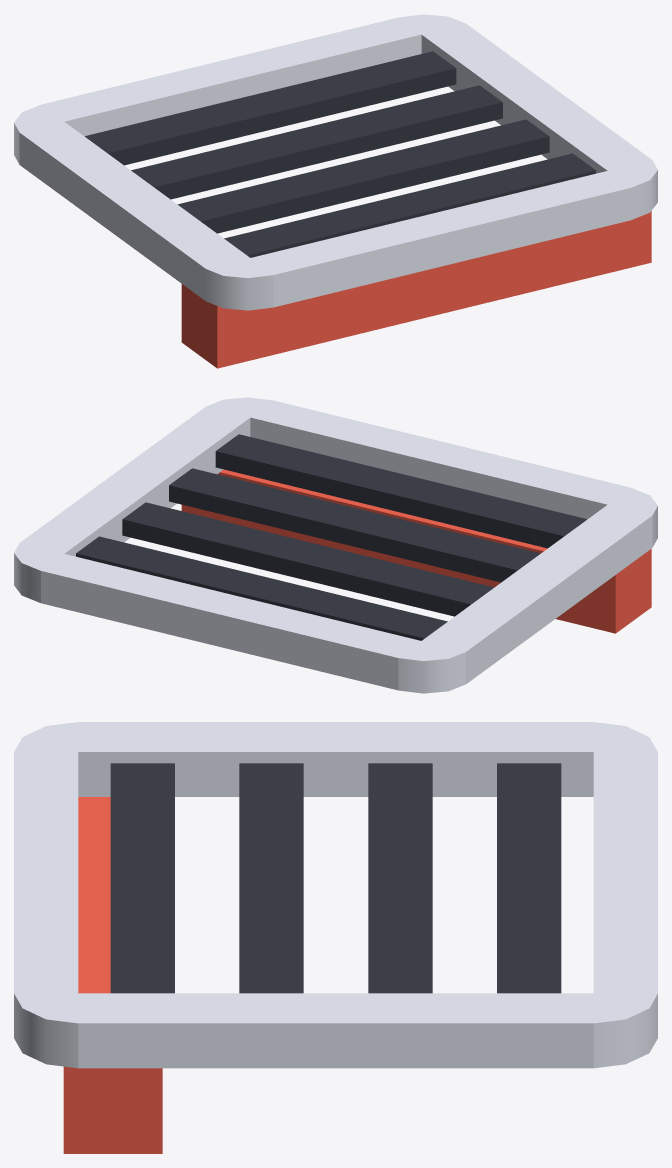
Rendered from WarehouseManipulator.fbx.
3 renders of one model, top to bottom at view 1: azimuth 30°, elevation 25°; view 2: azimuth 150°, elevation 25°; view 3: azimuth 270°, elevation 25°, orthographic. The views are drawn at different scales.
Visible parts, largest first — view 1: mergedBlocks; view 2: mergedBlocks; view 3: mergedBlocks.
Boxes of the visible parts, <box> form: mergedBlocks: <box>14,14,657,368</box>; mergedBlocks: <box>14,397,657,693</box>; mergedBlocks: <box>14,722,657,1153</box>.
Size of the model in its own units: 14.4 by 3 by 13.
